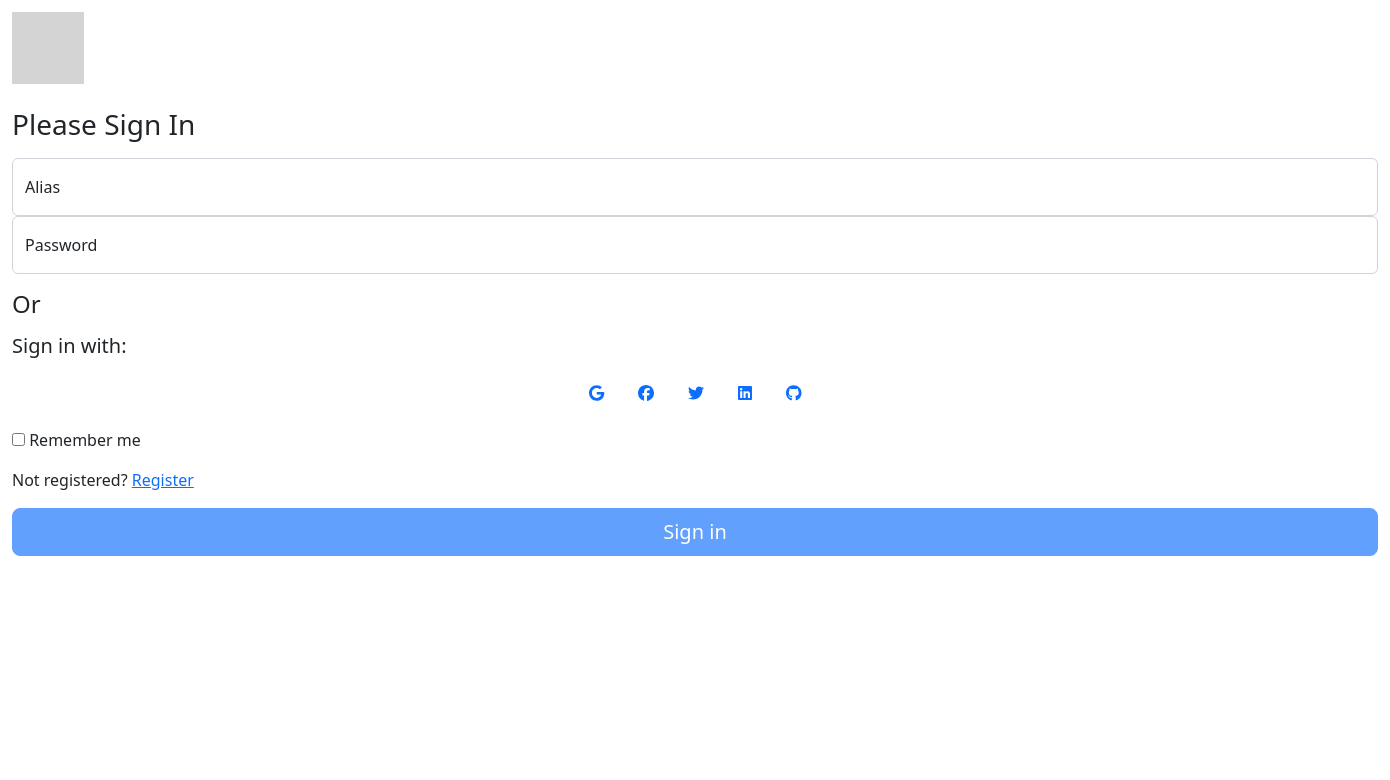
Scenario: Login Component › disables the sign-in button if either field is cleared
// Fill field
Type "a" into the field labelled "Alias" at (695, 187), box [12,158,1378,216]
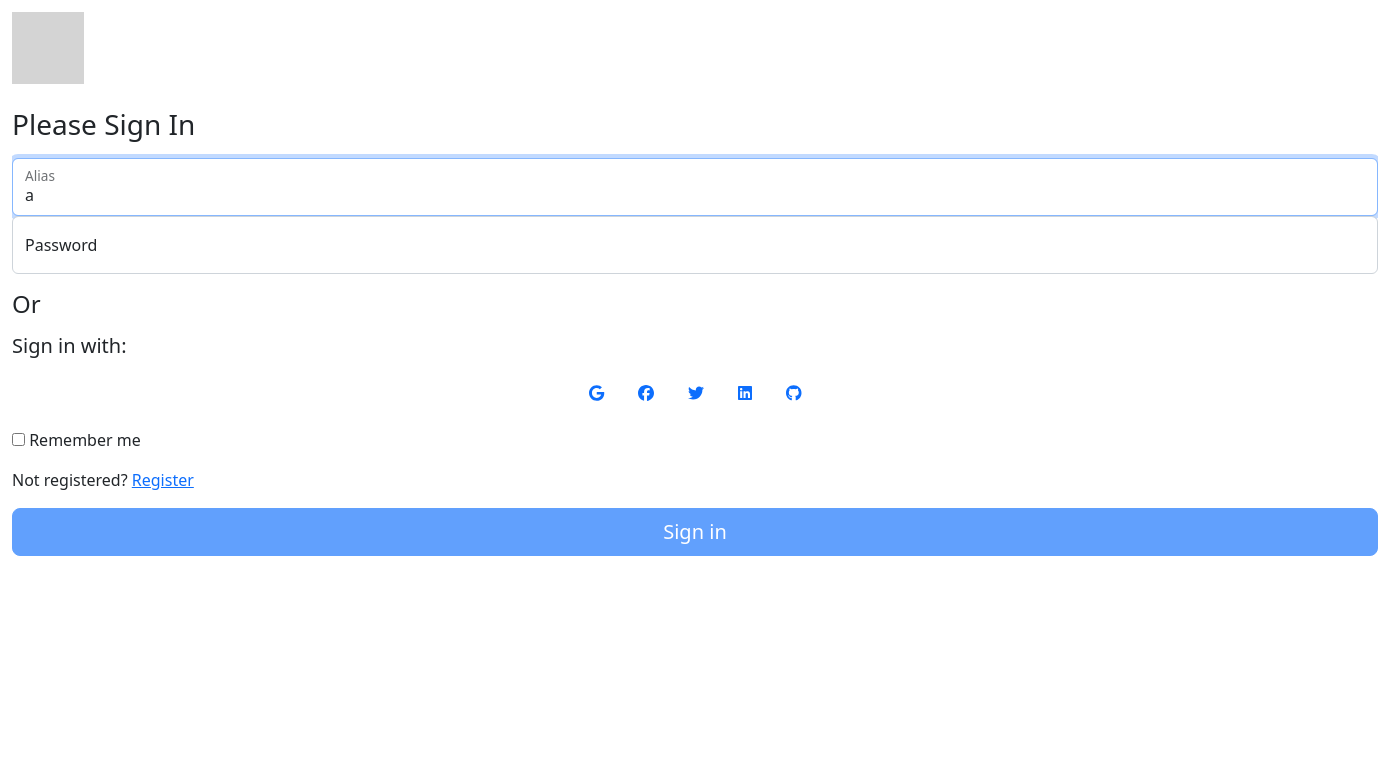
Type "b" into the password field labelled "Password" at (695, 245), box [12,216,1378,274]
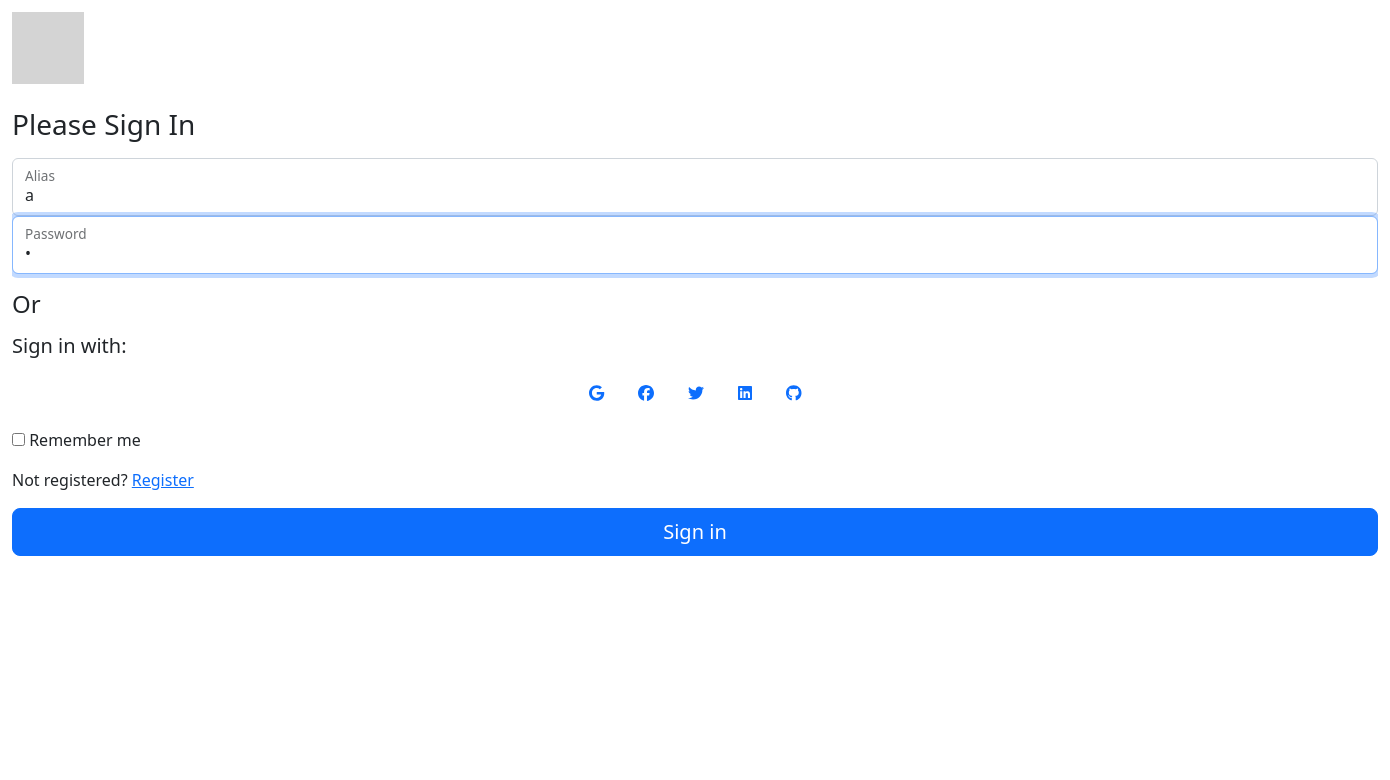
expect the button "Sign in" is enabled: met, box [12,508,1378,556]
// Clear password
Clear the password field labelled "Password" at (695, 245), box [12,216,1378,274]
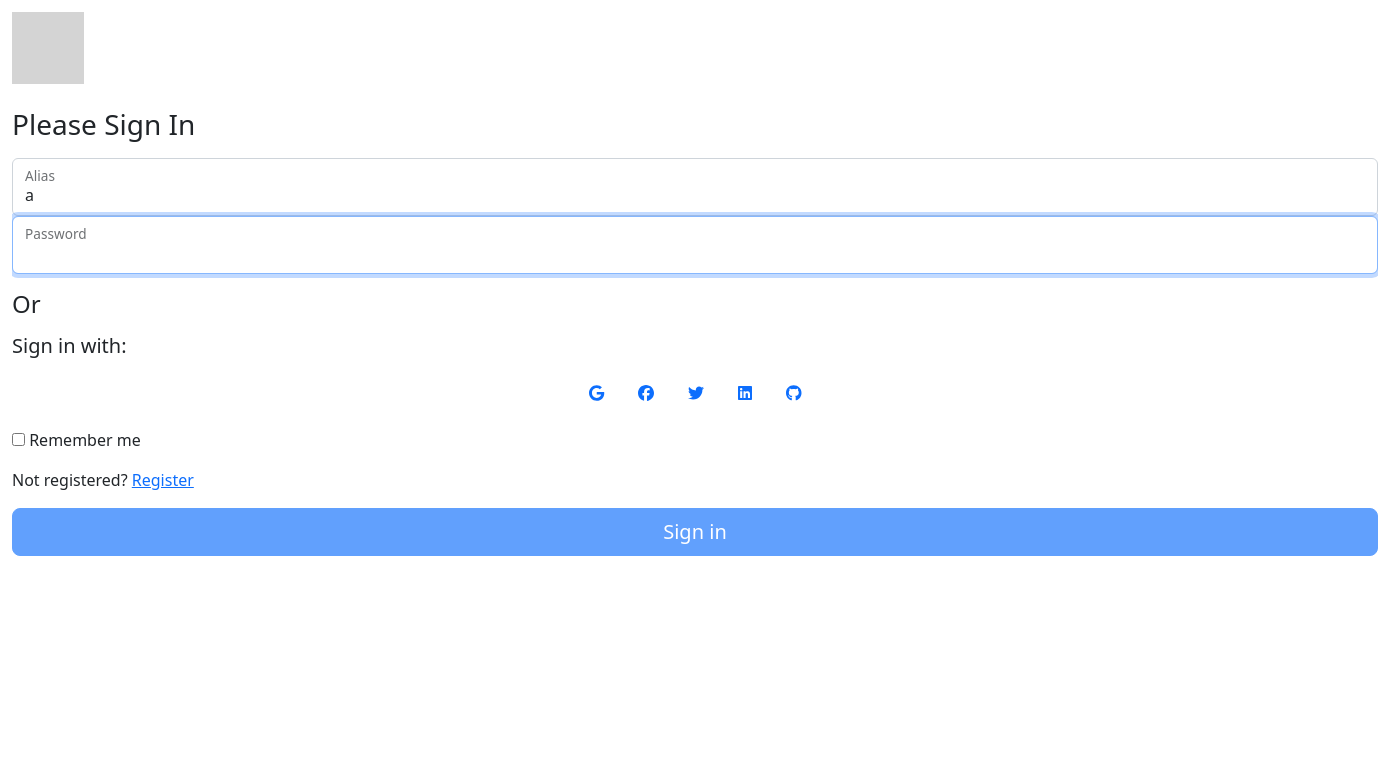
expect the button "Sign in" is disabled: met, box [12,508,1378,556]
// Reset fields
Type "b" into the password field labelled "Password" at (695, 245), box [12,216,1378,274]
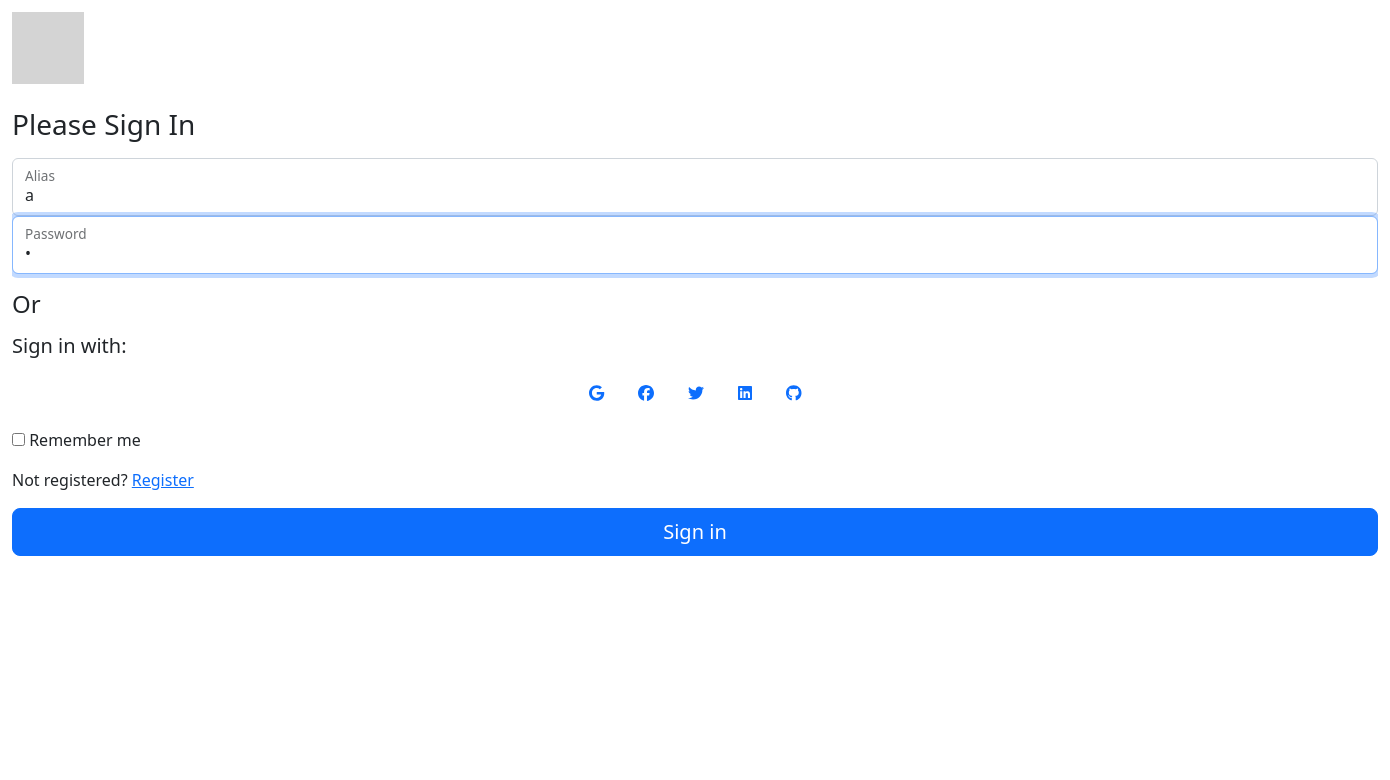
expect the button "Sign in" is enabled: met, box [12,508,1378,556]
// clear alias
Clear the field labelled "Alias" at (695, 187), box [12,158,1378,216]
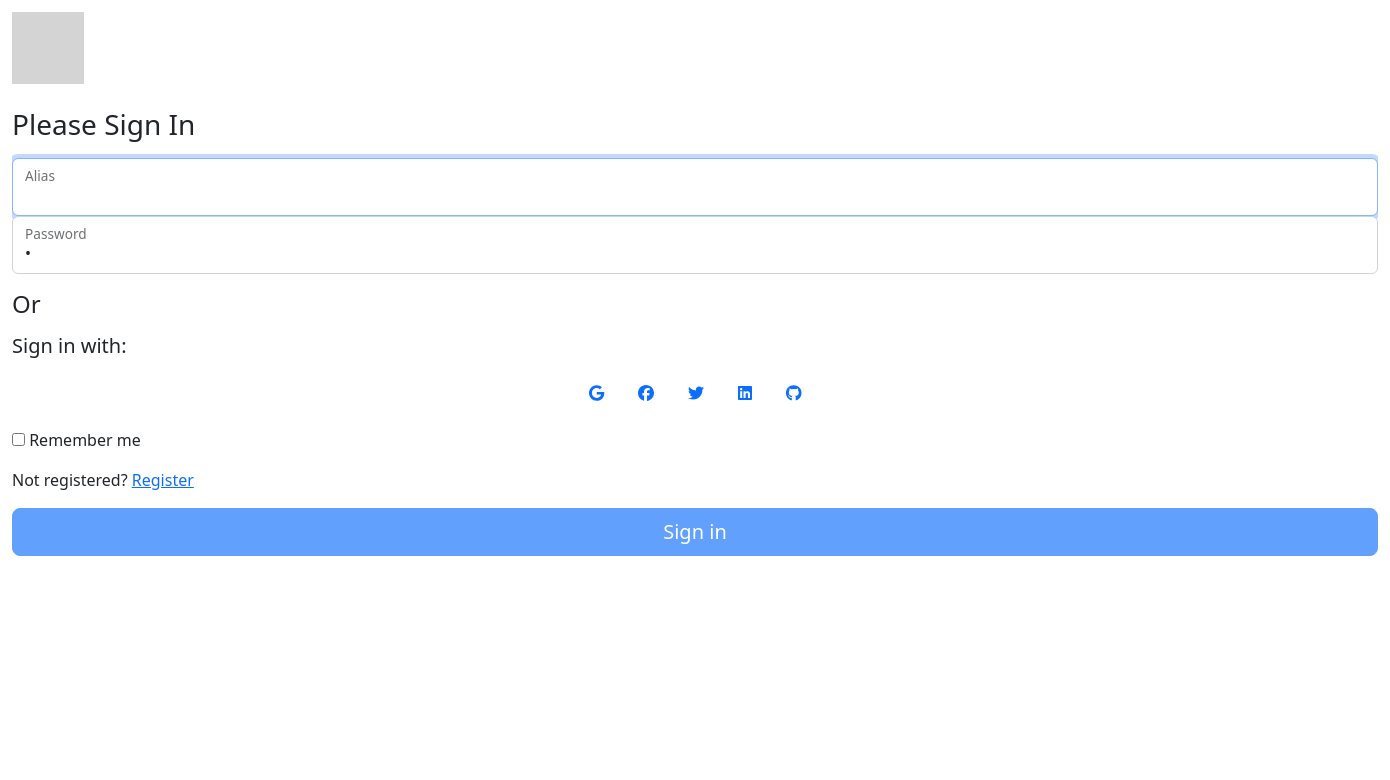
expect the button "Sign in" is disabled: met, box [12,508,1378,556]
